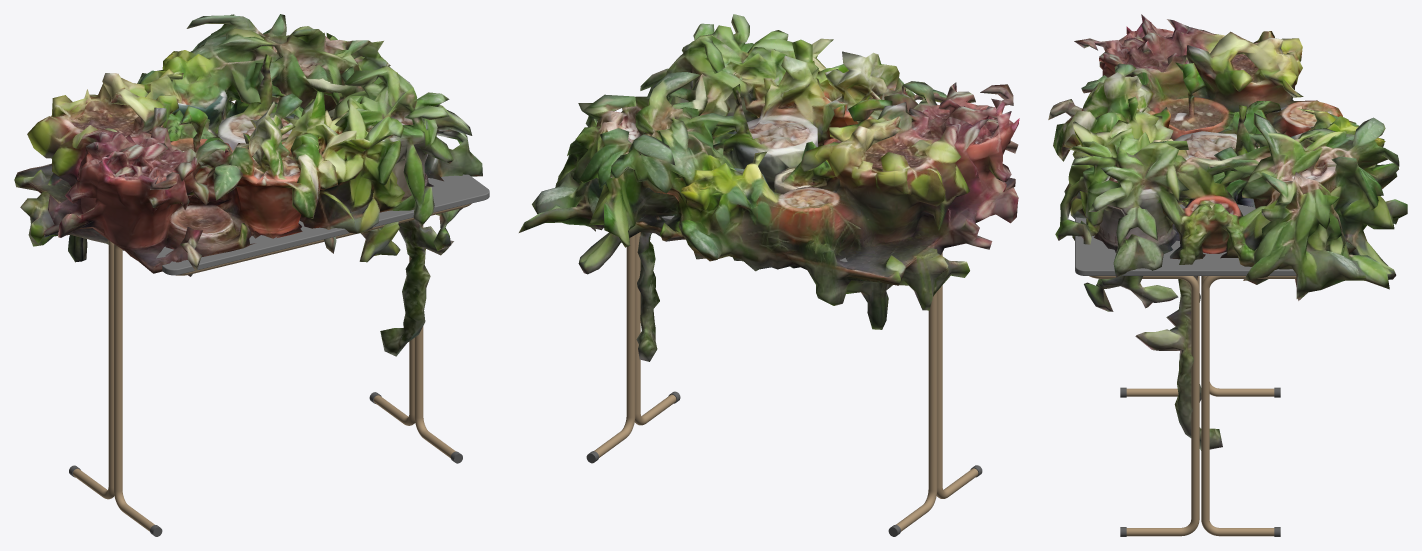
The picture shows the model from 3 angles, left to right: view 1: azimuth 30°, elevation 25°; view 2: azimuth 150°, elevation 25°; view 3: azimuth 270°, elevation 25°; orthographic projection. The views are drawn at different scales.
Parts seen in each view (by area): view 1: PLANTS_ON_TABLE_10K; view 2: PLANTS_ON_TABLE_10K; view 3: PLANTS_ON_TABLE_10K.
Part boxes in pixels (box(x1,y1,x2,y2)): PLANTS_ON_TABLE_10K: box(14, 14, 489, 536); PLANTS_ON_TABLE_10K: box(519, 14, 1019, 536); PLANTS_ON_TABLE_10K: box(1048, 14, 1407, 536).
Bounding box in the file's own units: 1.18 × 0.9637 × 1.13.
4 materials, 1 textured.
